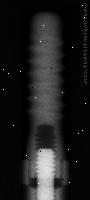Straumann ITI: (21, 9, 71, 200)
